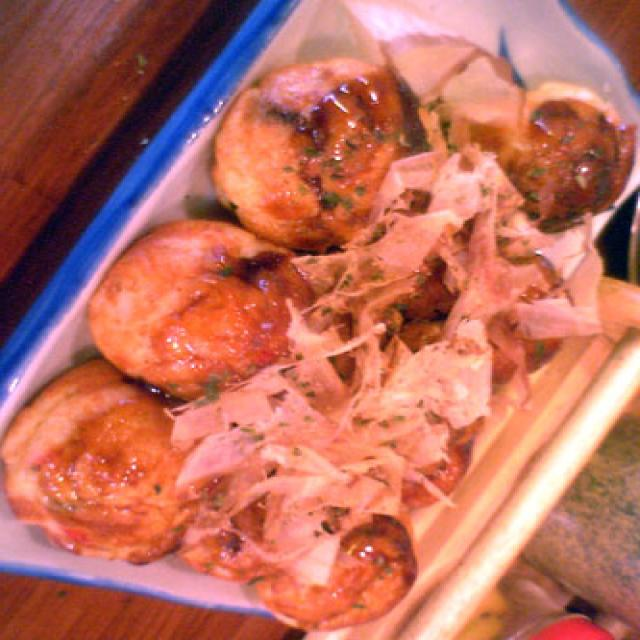炸货点心: (0, 0, 640, 533)
